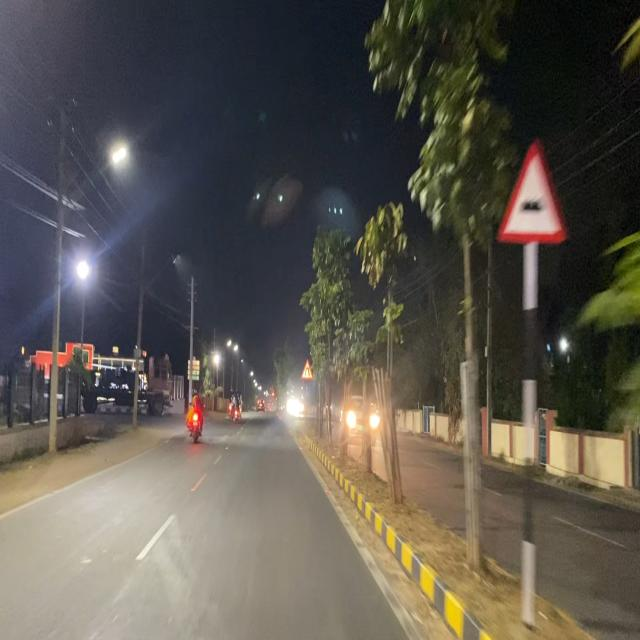bien_cam: (495, 134, 568, 248), (300, 358, 314, 381)
